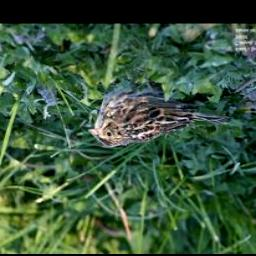Sparrow: (85, 78, 234, 150)
